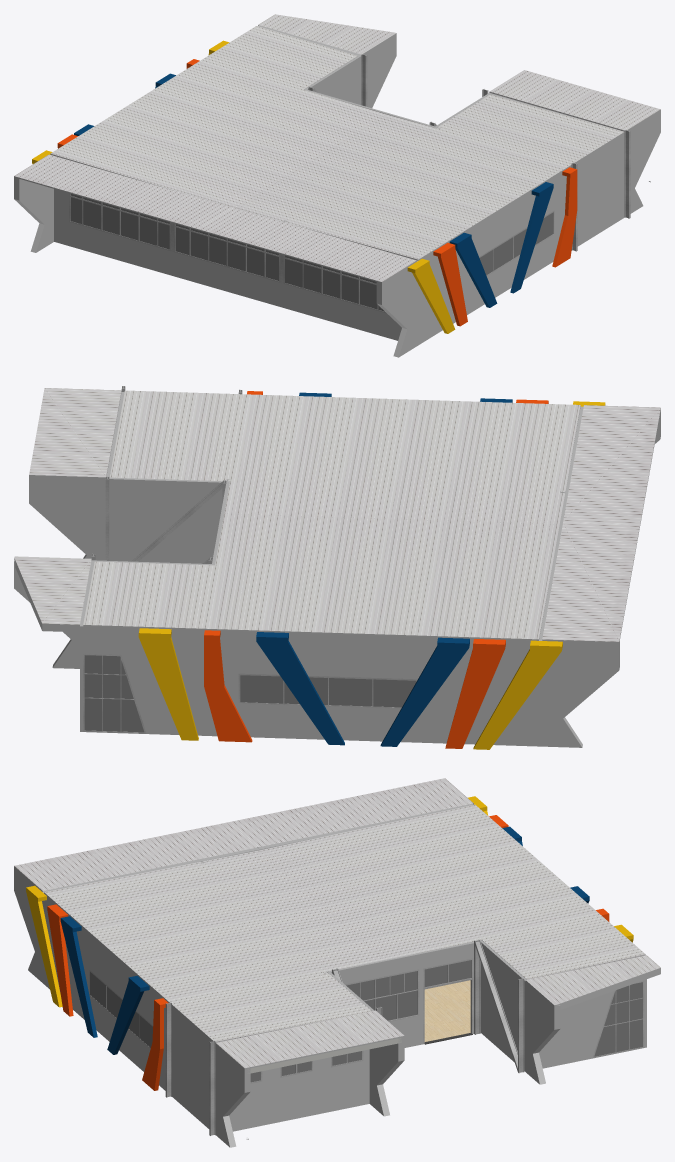
Rendered from Prédio-Estrutura.fbx.
The picture shows the model from 3 angles, top to bottom: view 1: azimuth 30°, elevation 25°; view 2: azimuth 150°, elevation 25°; view 3: azimuth 270°, elevation 25°; orthographic projection. The views are drawn at different scales.
Visible parts, largest first — view 1: group_ 2.148, group_ 2.104, Paredes, group_ 3.086, group_ 3.069, group_.241, group_.243, group_.193, group_.143, group_.242, group_ 7.008, group_ 10.005 (+8 smaller); view 2: group_ 2.148, group_ 2.104, Paredes, group_ 3.069, group_ 3.086, group_.241, group_.193, group_ 2.220, group_ 2.105, group_ 9.005, group_.133, group_ 3.035 (+6 smaller); view 3: group_ 2.148, group_ 2.104, Paredes, group_ 3.086, group_ 3.069, group_.241, group_.193, Piso, group_.148, group_ 2.066, group_ 6.011, group_ 2.067 (+14 smaller).
Part boxes in pixels (x1,y1,x2,y2): group_ 2.148: (235, 94, 624, 260); group_ 2.104: (50, 26, 385, 207); Paredes: (14, 26, 660, 357); group_ 3.086: (198, 207, 416, 283); group_ 3.069: (14, 154, 232, 230); group_.241: (489, 70, 660, 131); group_.243: (175, 224, 278, 280); group_.193: (258, 14, 396, 54); group_.143: (70, 194, 169, 249); group_.242: (285, 255, 384, 311); group_ 7.008: (510, 182, 553, 293); group_ 10.005: (433, 243, 467, 326); group_ 2.148: (109, 390, 580, 524); group_ 2.104: (83, 513, 559, 640); Paredes: (14, 392, 660, 747); group_ 3.069: (542, 522, 639, 643); group_ 3.086: (563, 405, 660, 525); group_.241: (29, 388, 121, 478); group_.193: (14, 556, 91, 626); group_ 2.220: (240, 675, 416, 707); group_ 2.105: (84, 655, 144, 732); group_ 9.005: (256, 632, 344, 745); group_.133: (138, 628, 198, 740); group_ 3.035: (473, 640, 562, 749); group_ 2.148: (44, 850, 383, 1042); group_ 2.104: (260, 804, 645, 979); Paredes: (14, 803, 646, 1147); group_ 3.086: (14, 822, 257, 892); group_ 3.069: (230, 778, 473, 848); group_.241: (215, 1010, 404, 1069); group_.193: (525, 955, 660, 1006); Piso: (424, 980, 472, 1044); group_.148: (594, 982, 642, 1056); group_ 2.066: (346, 960, 471, 1000); group_ 6.011: (60, 916, 97, 1037); group_ 2.067: (26, 885, 62, 1007).
Bounding box in the file's own units: 2397 × 361 × 2258.
Materials: 25 (9 with a texture image).
